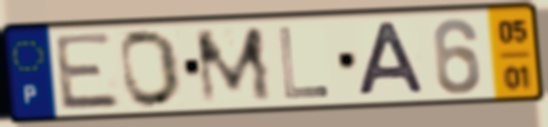6: (430, 15, 483, 97)
A: (355, 19, 429, 99)
E: (51, 30, 125, 113)
L: (275, 25, 333, 101)
M: (191, 23, 276, 107)
O: (117, 27, 185, 111)
